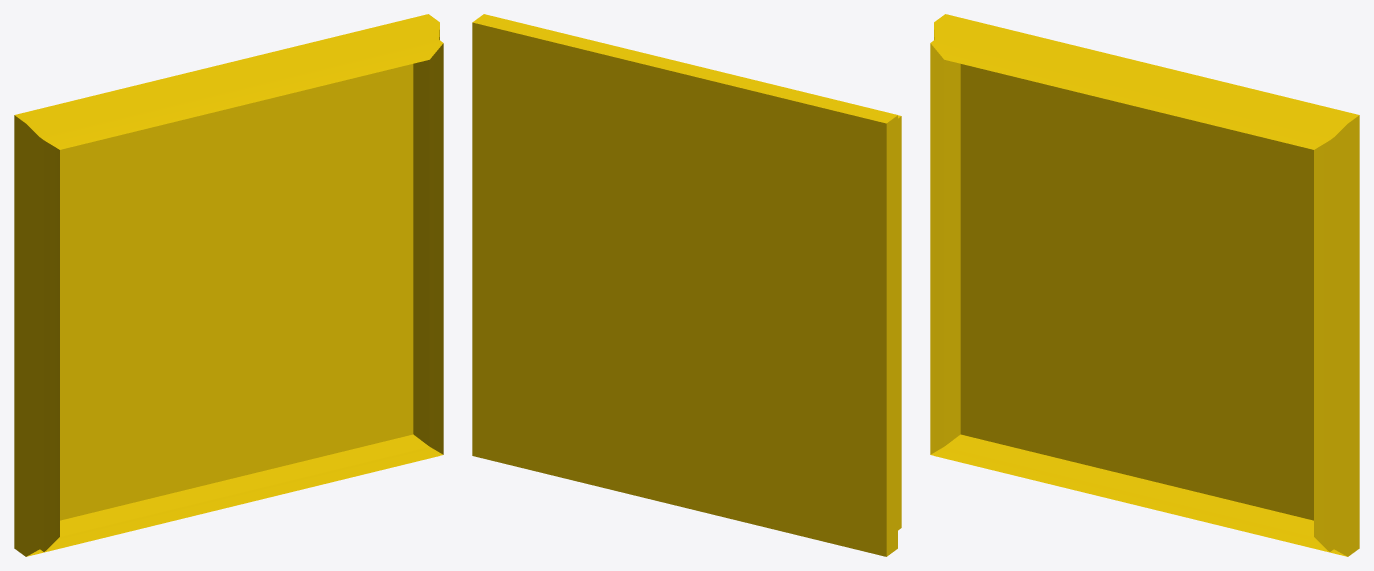
Rendered from picture_frame_3.glb.
The picture shows the model from 3 angles, left to right: view 1: azimuth 30°, elevation 25°; view 2: azimuth 150°, elevation 25°; view 3: azimuth 330°, elevation 25°; orthographic projection.
Parts seen in each view (by area): view 1: Object_2; view 2: Object_2; view 3: Object_2.
Part boxes in pixels (left/top/right/bottom): Object_2: left=14, top=14, right=443, bottom=556; Object_2: left=472, top=14, right=901, bottom=556; Object_2: left=930, top=14, right=1359, bottom=556.
Size of the model in its own units: 15 by 15 by 1.47.
